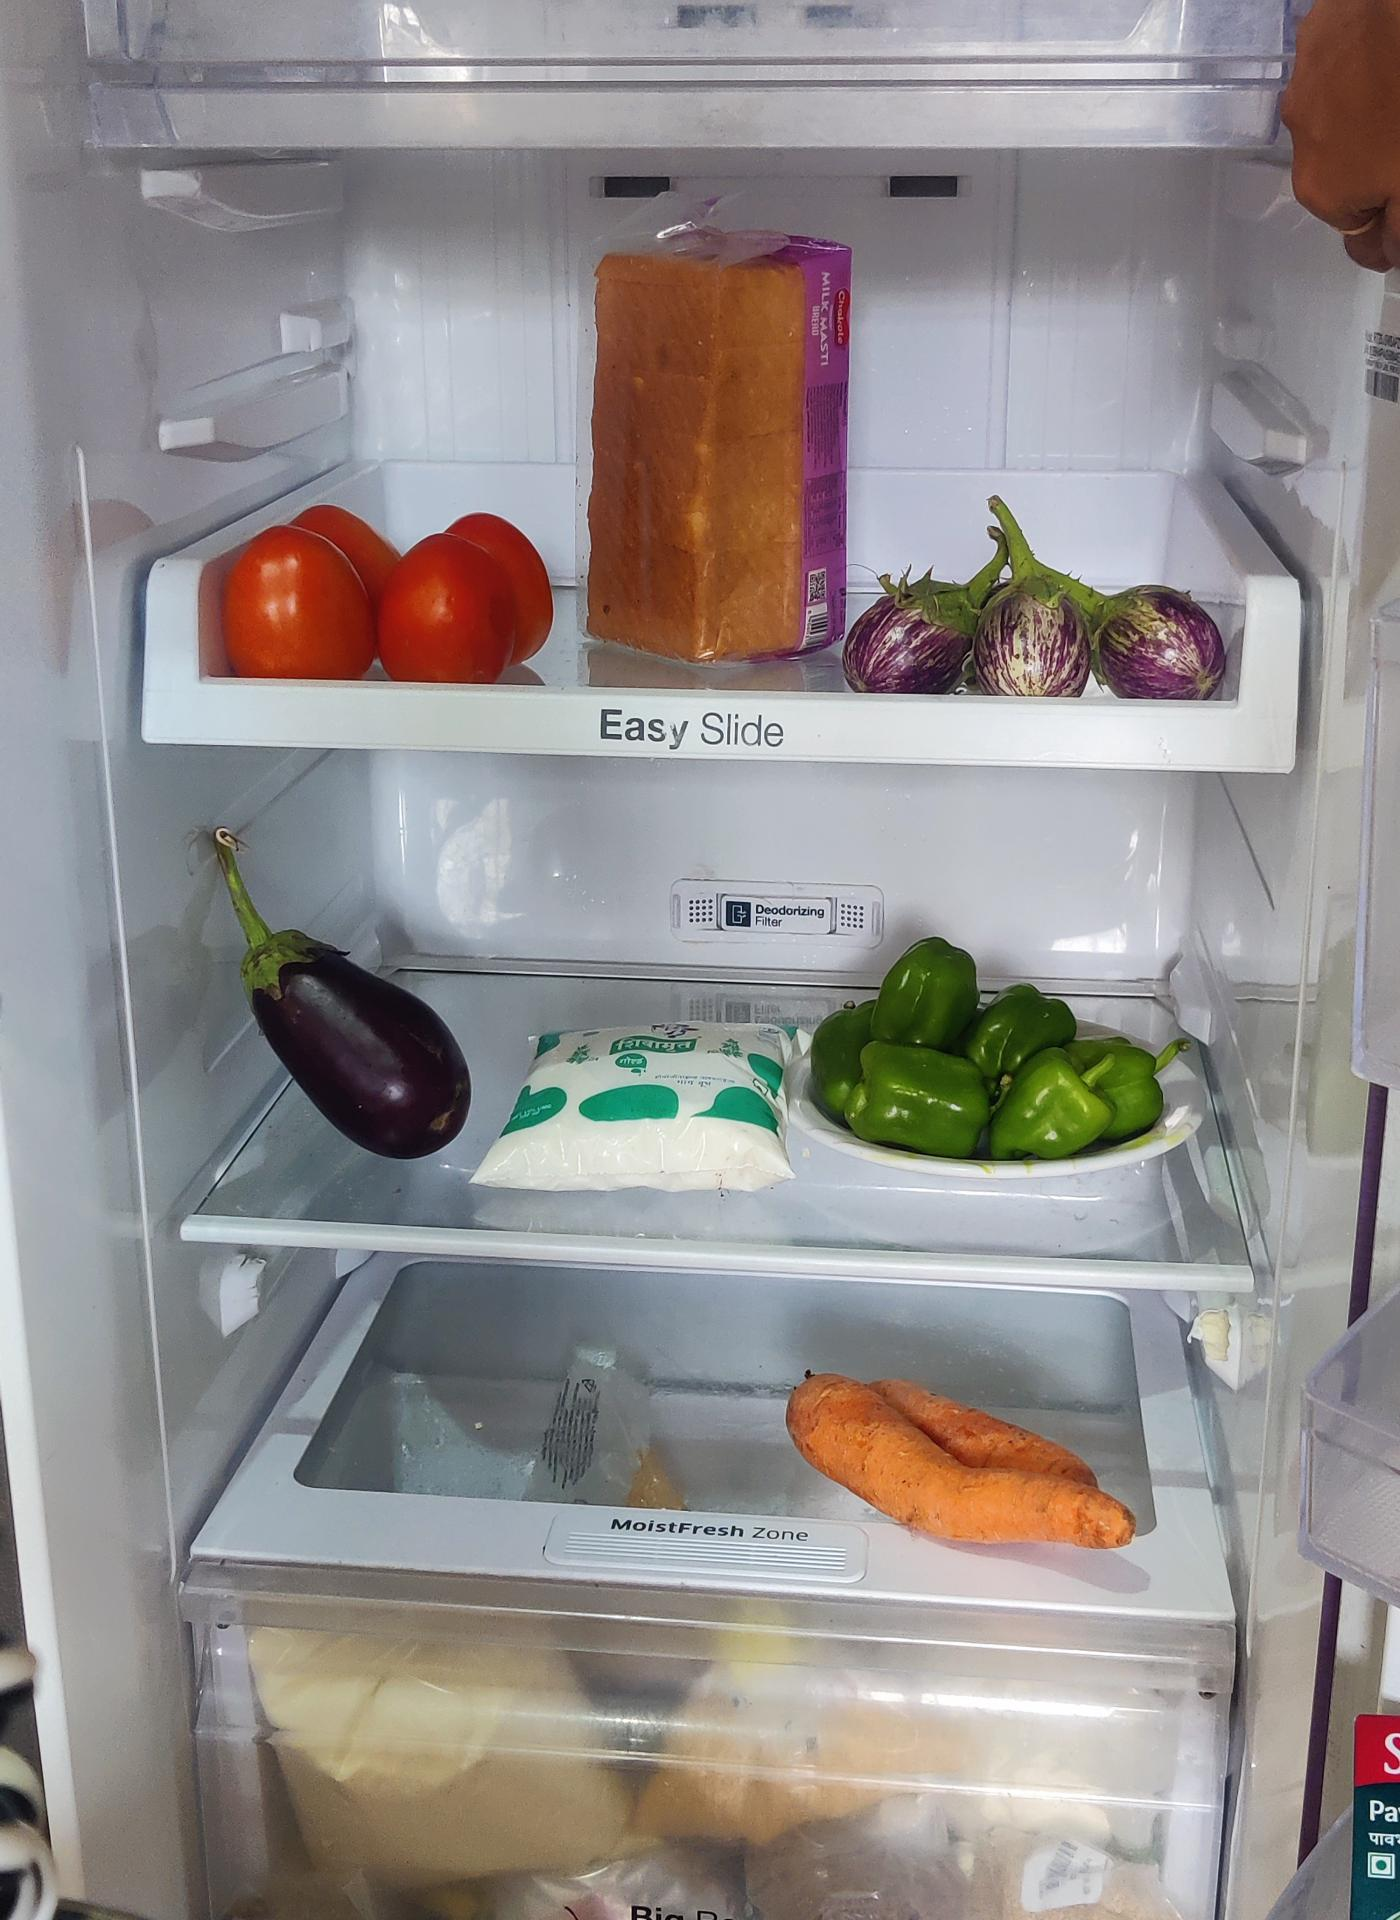bread: (586, 223, 866, 665)
brinjal: (836, 548, 1256, 707), (220, 894, 464, 1161)
capsicum: (807, 935, 1186, 1163)
carrots: (782, 1368, 1144, 1556)
milk: (474, 1020, 789, 1195)
tomato: (213, 512, 558, 691)
